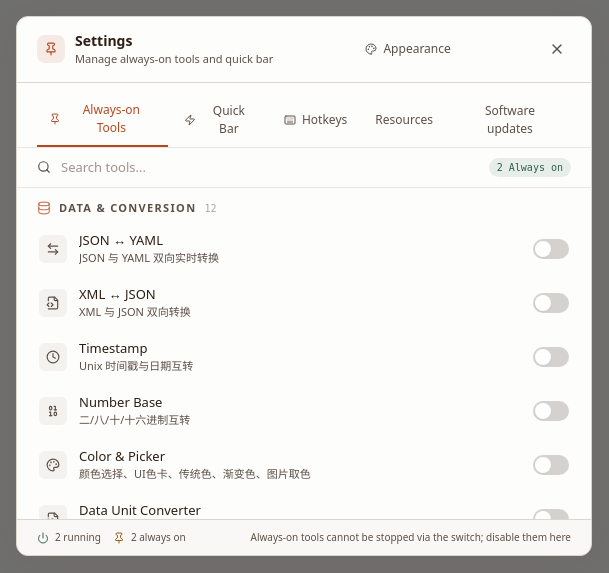
Test: 外观设置 › 缺少指针特效字段时仍能打开外观页
Click the button "Appearance". click: click(408, 49)
box: [354,32,463,66]
(page scrolled)
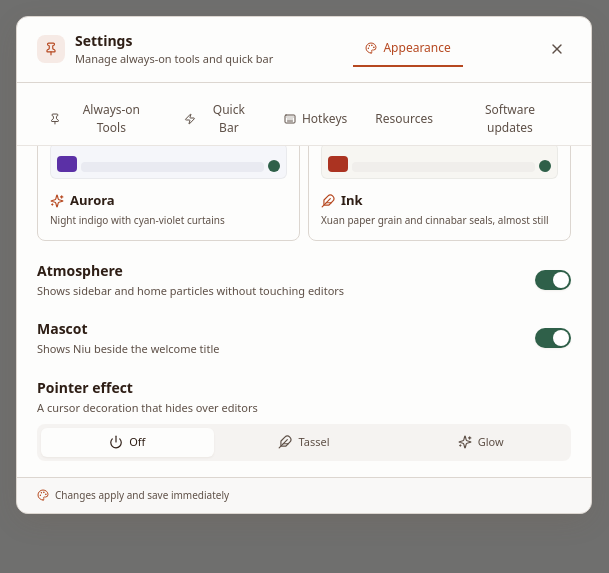
Result: the heading "Pointer effect" is shown at [37,378,133,396]
